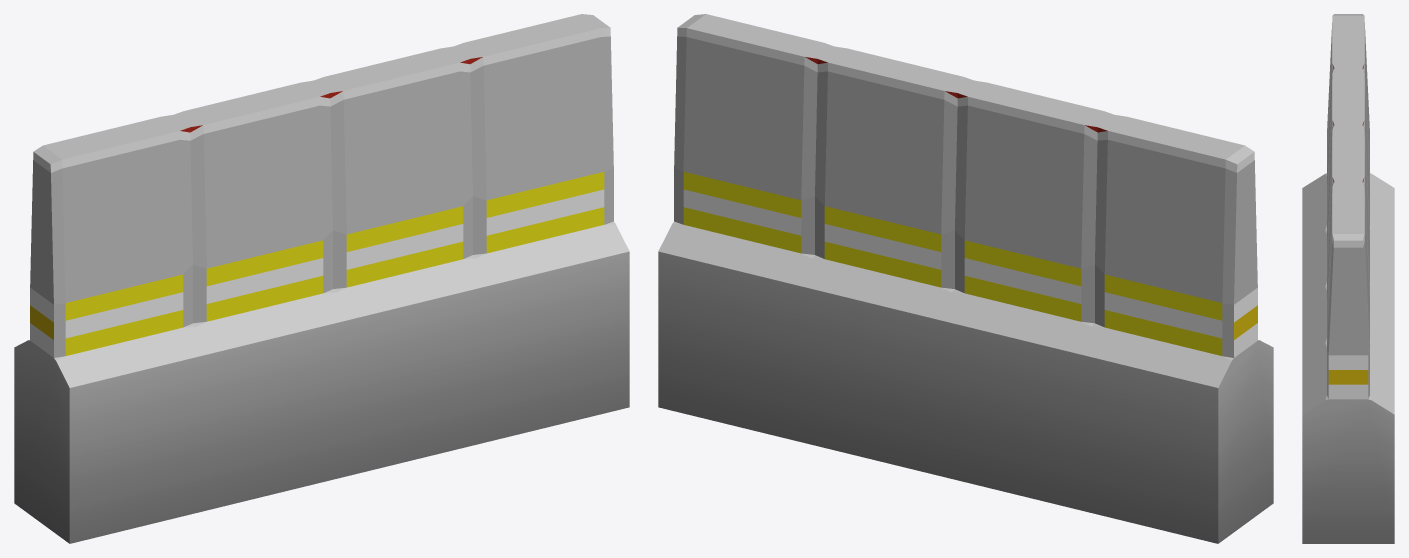
The model's file is Structure_Barricade.fbx.
The picture shows the model from 3 angles, left to right: view 1: azimuth 30°, elevation 25°; view 2: azimuth 150°, elevation 25°; view 3: azimuth 270°, elevation 25°; orthographic projection. The views are drawn at different scales.
Parts seen in each view (by area): view 1: Building_Barricade; view 2: Building_Barricade; view 3: Building_Barricade.
Boxes of the visible parts, x1,y1,x2,y2 form: Building_Barricade: (14, 14, 629, 543); Building_Barricade: (658, 14, 1273, 543); Building_Barricade: (1302, 14, 1394, 543).
Size of the model in its own units: 200 by 126 by 34.32.
